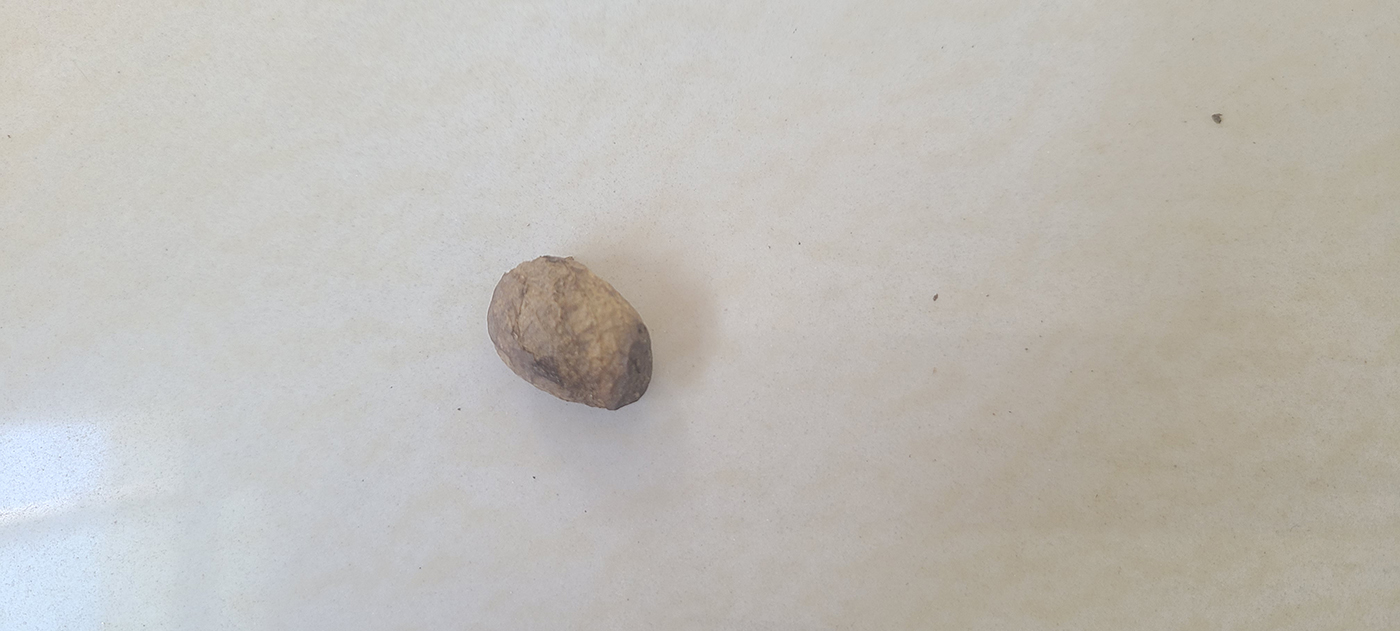l: (487, 254, 655, 411)
